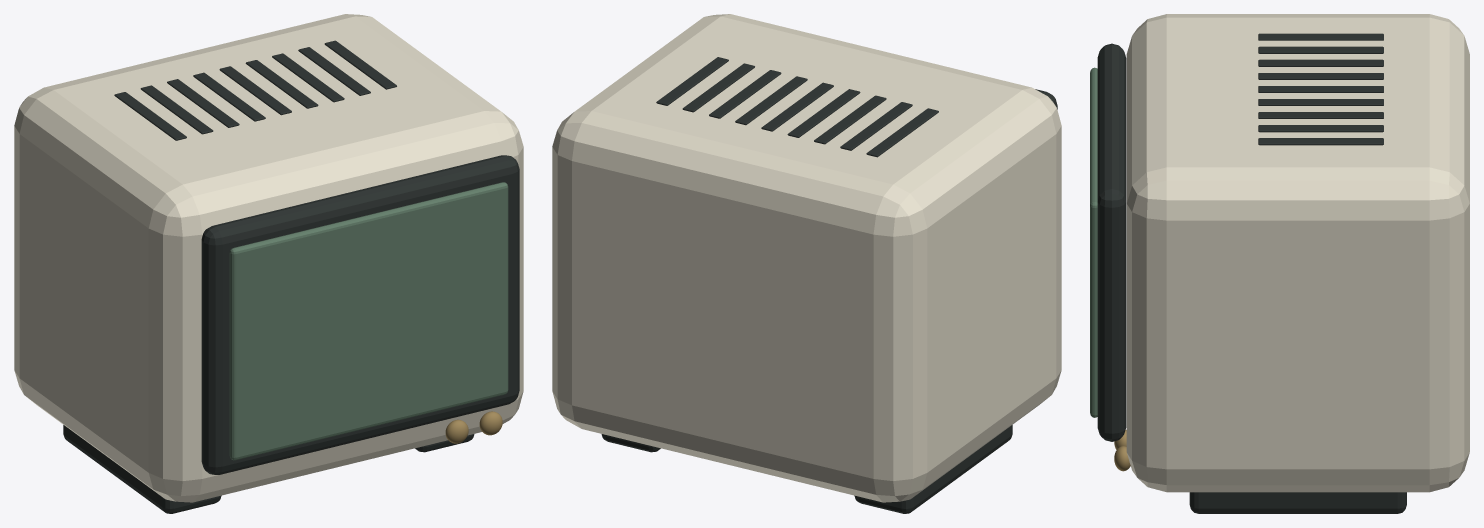
File: crt-1.glb
The picture shows the model from 3 angles, left to right: view 1: azimuth 30°, elevation 25°; view 2: azimuth 150°, elevation 25°; view 3: azimuth 270°, elevation 25°; orthographic projection.
Parts seen in each view (by area): view 1: Rounded CRT body, Screen surface, Screen bezel, Foot, Top vent.001, Top vent.002, Top vent.006, Top vent.003, Top vent, Top vent.004, Top vent.005, Top vent.007 (+1 smaller); view 2: Rounded CRT body, Foot, Top vent, Top vent.002, Top vent.005, Top vent.007, Top vent.003, Top vent.008, Top vent.004, Top vent.001, Top vent.006; view 3: Rounded CRT body, Screen bezel, Foot.001, Screen surface, Top vent, Top vent.001, Top vent.002, Top vent.007, Top vent.008, Top vent.003, Top vent.004, Top vent.005 (+1 smaller).
Part boxes in pixels (box(x1,y1,x2,y2)): Rounded CRT body: box(14, 14, 523, 502); Screen surface: box(229, 182, 508, 460); Screen bezel: box(201, 155, 519, 474); Foot: box(63, 425, 221, 513); Top vent.001: box(140, 85, 213, 134); Top vent.002: box(167, 79, 239, 127); Top vent.006: box(272, 53, 344, 102); Top vent.003: box(193, 72, 265, 121); Top vent: box(114, 92, 186, 140); Top vent.004: box(219, 66, 291, 115); Top vent.005: box(245, 60, 318, 108); Top vent.007: box(298, 47, 370, 95); Rounded CRT body: box(552, 14, 1061, 502); Foot: box(854, 425, 1012, 513); Top vent: box(866, 108, 938, 157); Top vent.002: box(814, 95, 886, 144); Top vent.005: box(735, 76, 807, 125); Top vent.007: box(682, 63, 754, 112); Top vent.003: box(787, 89, 860, 137); Top vent.008: box(656, 57, 728, 105); Top vent.004: box(761, 82, 833, 131); Top vent.001: box(840, 102, 912, 150); Top vent.006: box(709, 70, 781, 118); Rounded CRT body: box(1126, 14, 1469, 492); Screen bezel: box(1097, 43, 1126, 441); Foot.001: box(1189, 492, 1406, 513); Screen surface: box(1090, 67, 1097, 417); Top vent: box(1258, 33, 1383, 40); Top vent.001: box(1258, 46, 1383, 53); Top vent.002: box(1258, 59, 1383, 66); Top vent.007: box(1258, 125, 1383, 132); Top vent.008: box(1258, 138, 1383, 145); Top vent.003: box(1258, 73, 1383, 79); Top vent.004: box(1258, 86, 1383, 92); Top vent.005: box(1258, 99, 1383, 105).
Size of the model in its own units: 0.38 by 0.338 by 0.332.
